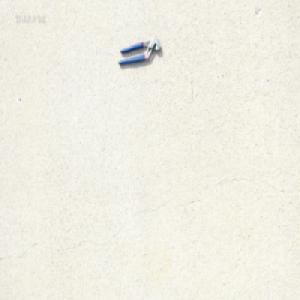Pliers: (118, 37, 162, 67)
